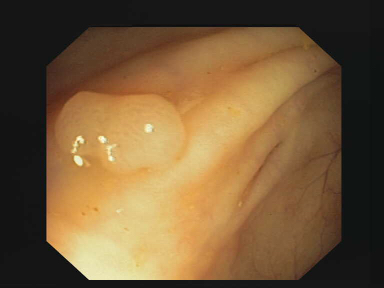polyp: (51, 90, 186, 173)
